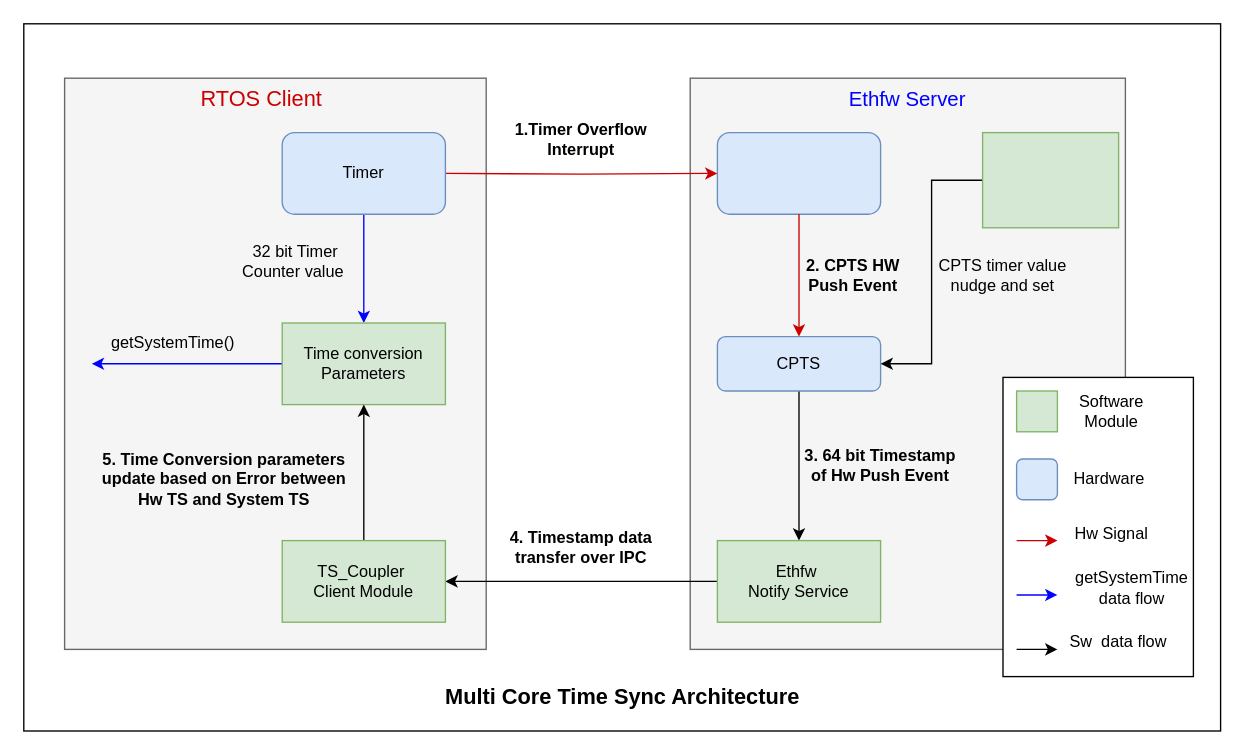
Image size: 1244x755. Some labels were removed from this diagram. The box of each missing label's shape, as (x1, y1, x2, y2) in pixels:
gPTP stack: (981, 131, 1119, 228)
Time Sync Router: (716, 131, 881, 214)
